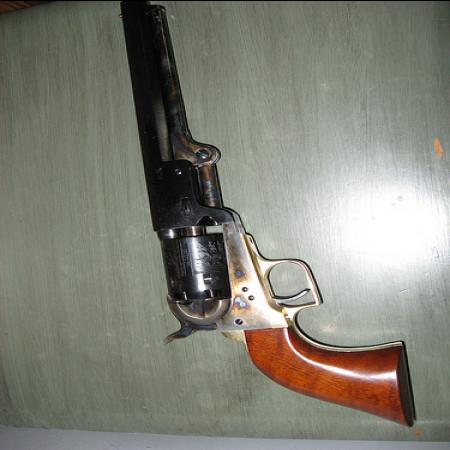Pistol: (114, 3, 416, 428)
